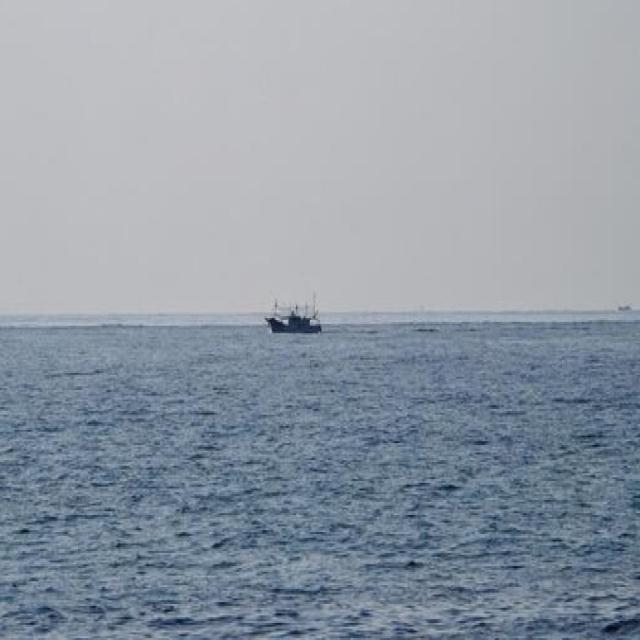fishing boat: (263, 292, 323, 338)
